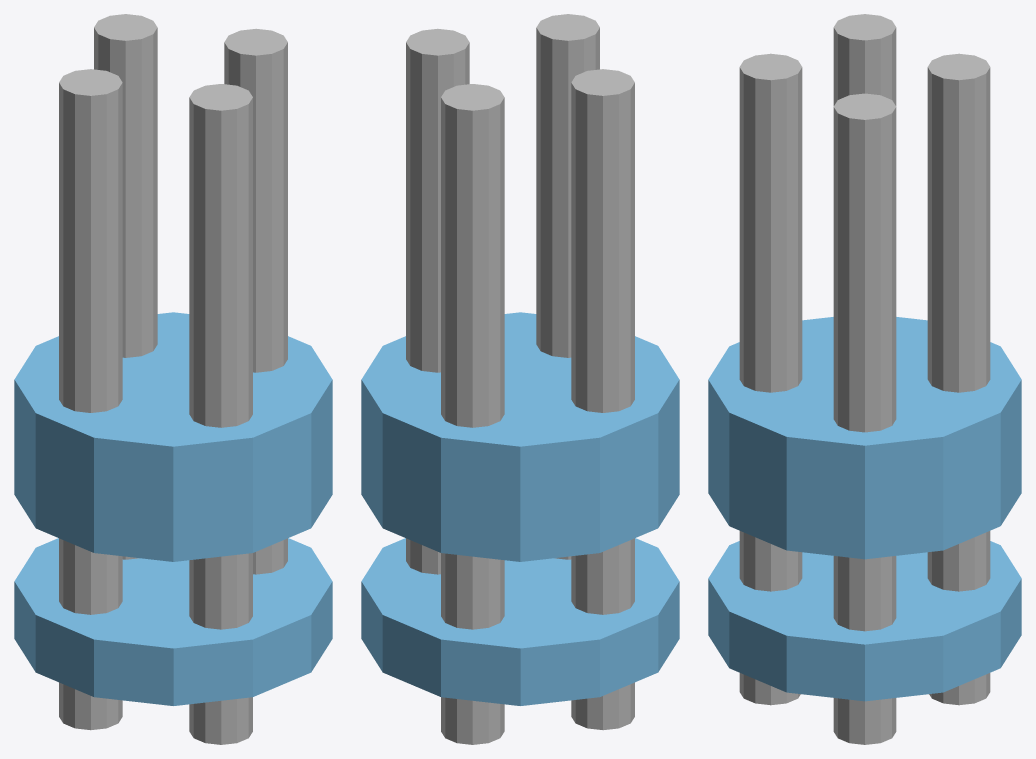
The model's file is gun_trunk.glb.
3 renders of one model, left to right at view 1: azimuth 30°, elevation 25°; view 2: azimuth 150°, elevation 25°; view 3: azimuth 270°, elevation 25°, orthographic.
Parts seen in each view (by area): view 1: Circle.004; view 2: Circle.004; view 3: Circle.004.
Boxes of the visible parts, box(x1,y1,x2,y2) form: Circle.004: box(14, 14, 332, 744); Circle.004: box(361, 14, 679, 744); Circle.004: box(708, 14, 1021, 744).
Size of the model in its own units: 1 by 2.2 by 1.
1 material, 1 textured.
